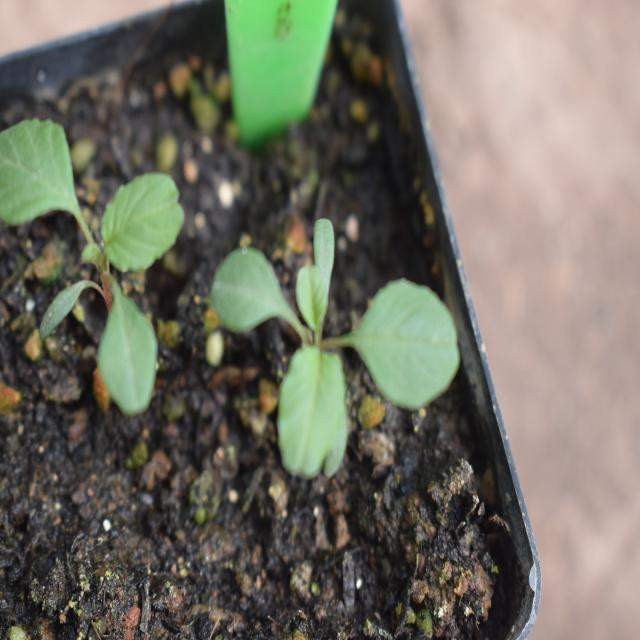pigweed: (5, 116, 188, 404)
